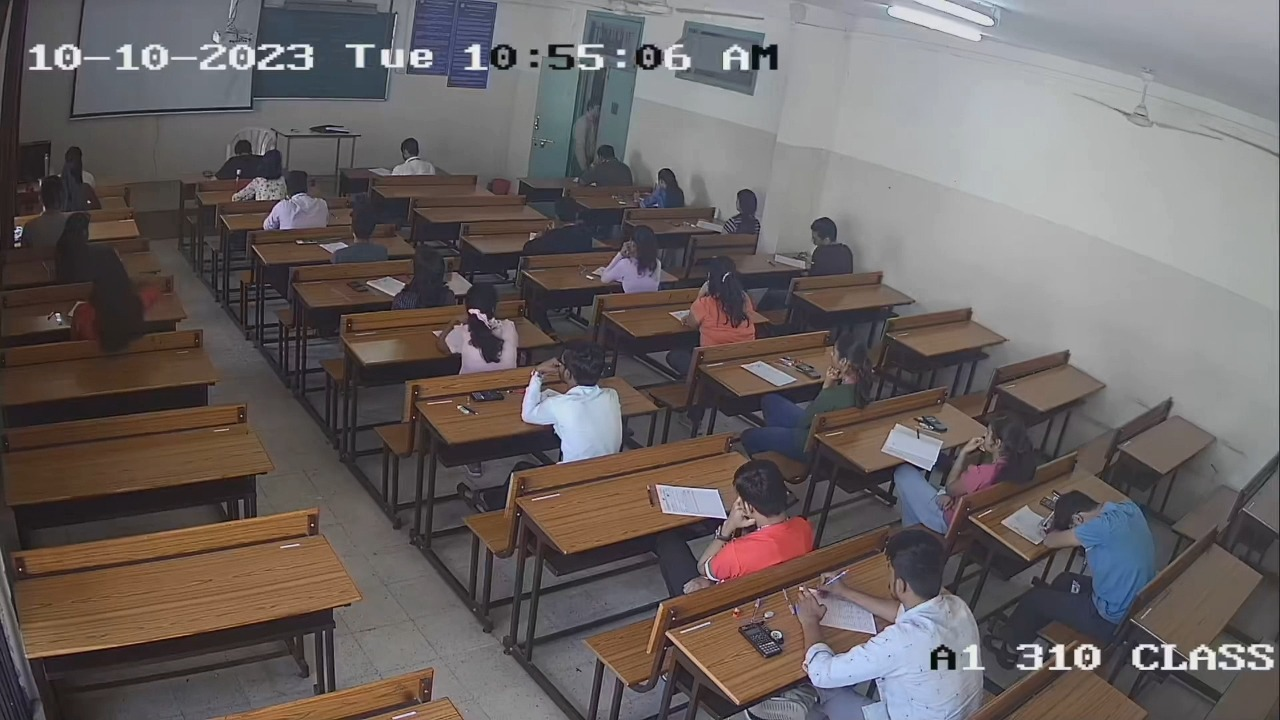cell-phones: (737, 620, 783, 659), (796, 358, 822, 381), (921, 411, 946, 434), (470, 388, 506, 403), (347, 279, 369, 294)
person: (795, 529, 988, 720), (517, 344, 626, 456), (942, 413, 1037, 492), (803, 332, 873, 411), (386, 247, 459, 313)
